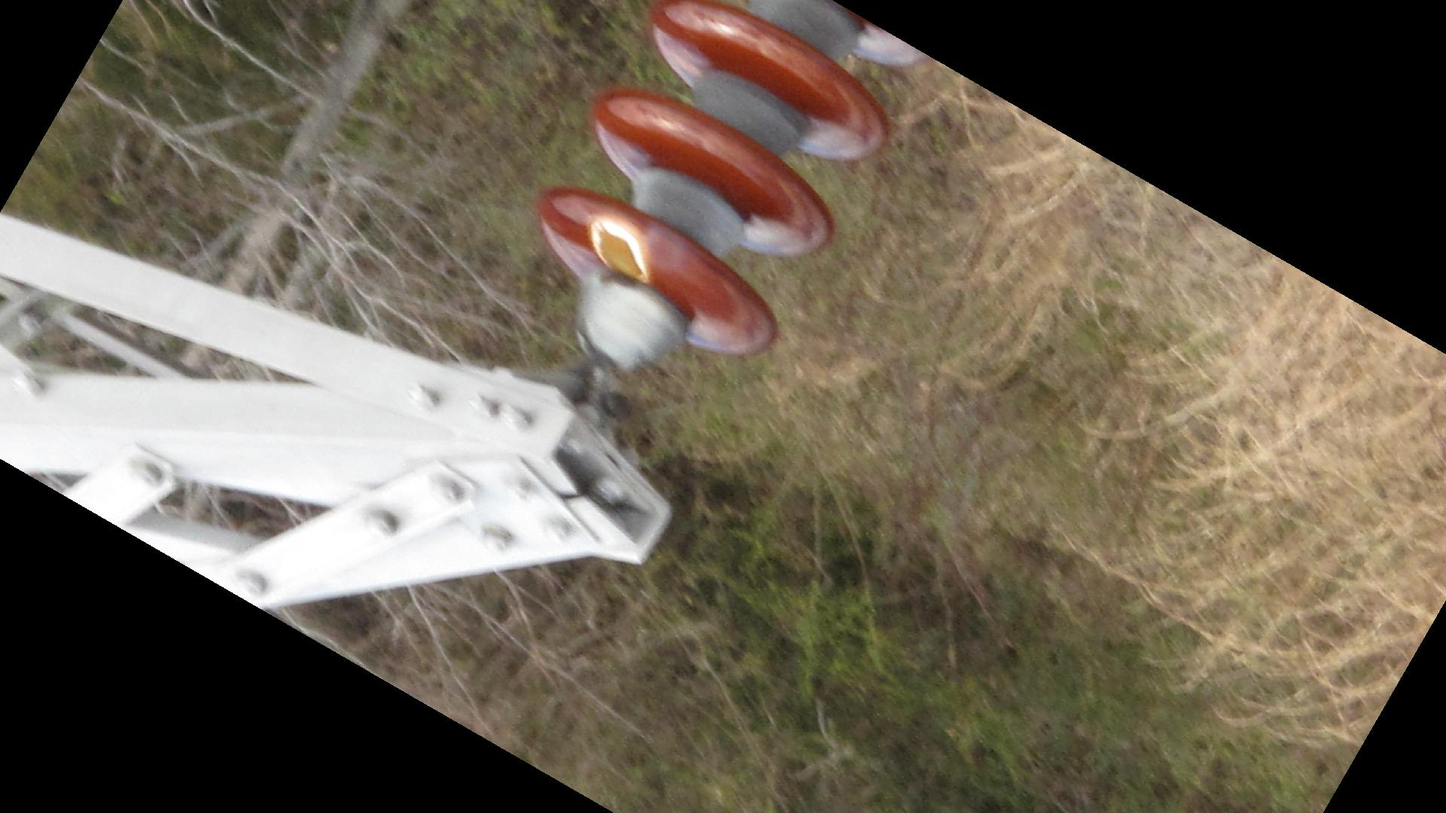insulator: (532, 1, 923, 367)
insulator_flashover: (583, 213, 659, 289)
